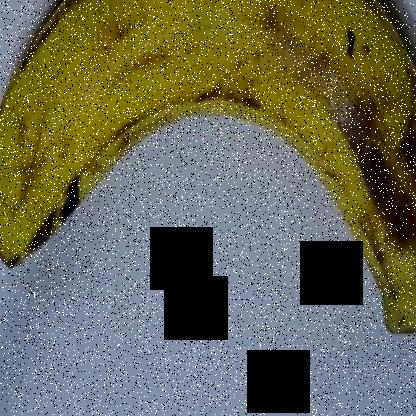overripe: (0, 1, 415, 364)
